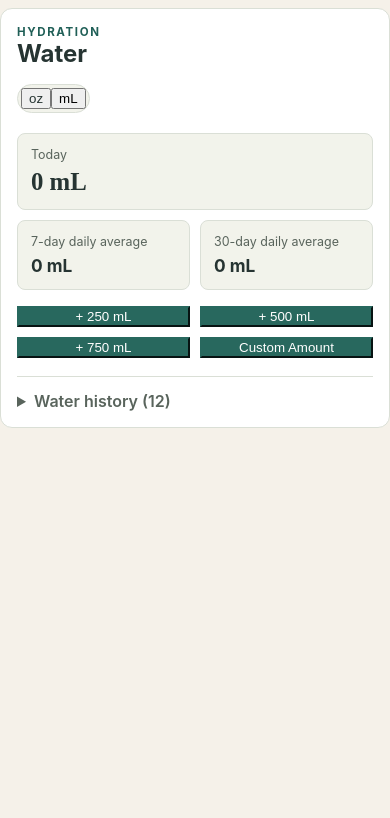
Test: shows the 10 newest history entries first and reveals older entries in a batch
The width and height of the screenshot is (390, 818).
Click the heading "Water history (12)": (102, 401) [34,391,171,411]
(page scrolled)
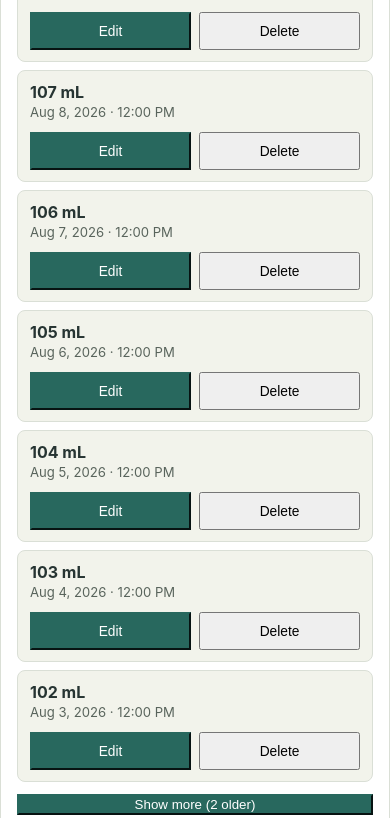
Now the button with aria-label "Show 2 more older water entries" reads "Show more (2 older)"
Click the button with aria-label "Show 2 more older water entries": (195, 805) [17,794,373,815]
(page scrolled)
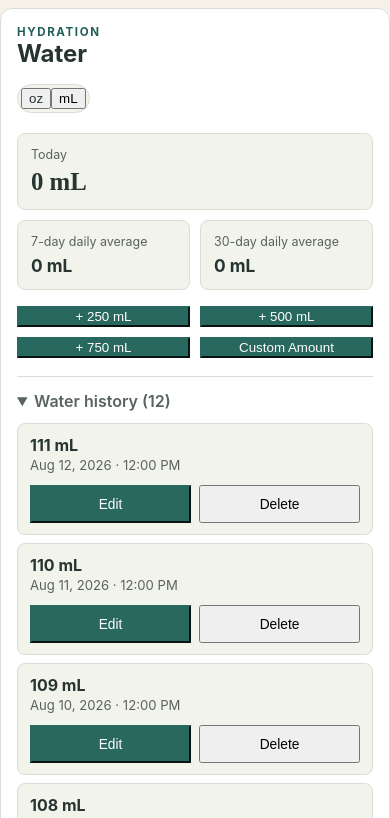
Click the heading "Water history (12)": (102, 401) [34,391,171,411]
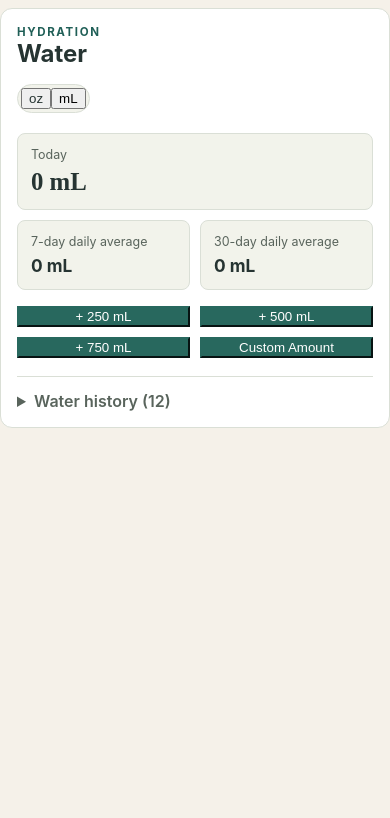
Click the heading "Water history (12)": (102, 401) [34,391,171,411]
(page scrolled)
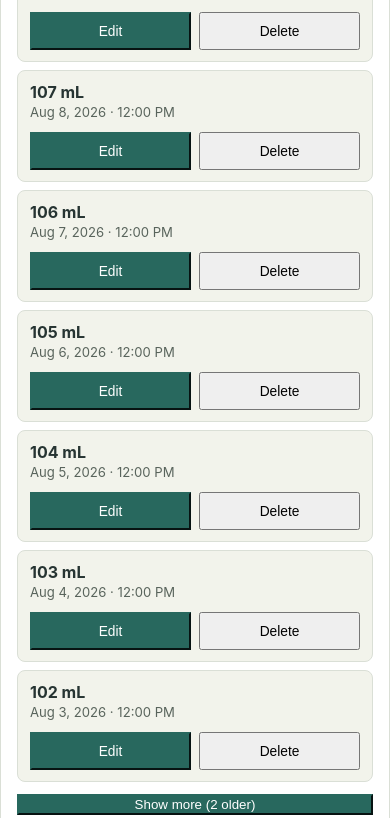
Now the button with aria-label "Show 2 more older water entries" is shown, box [17,794,373,815]
